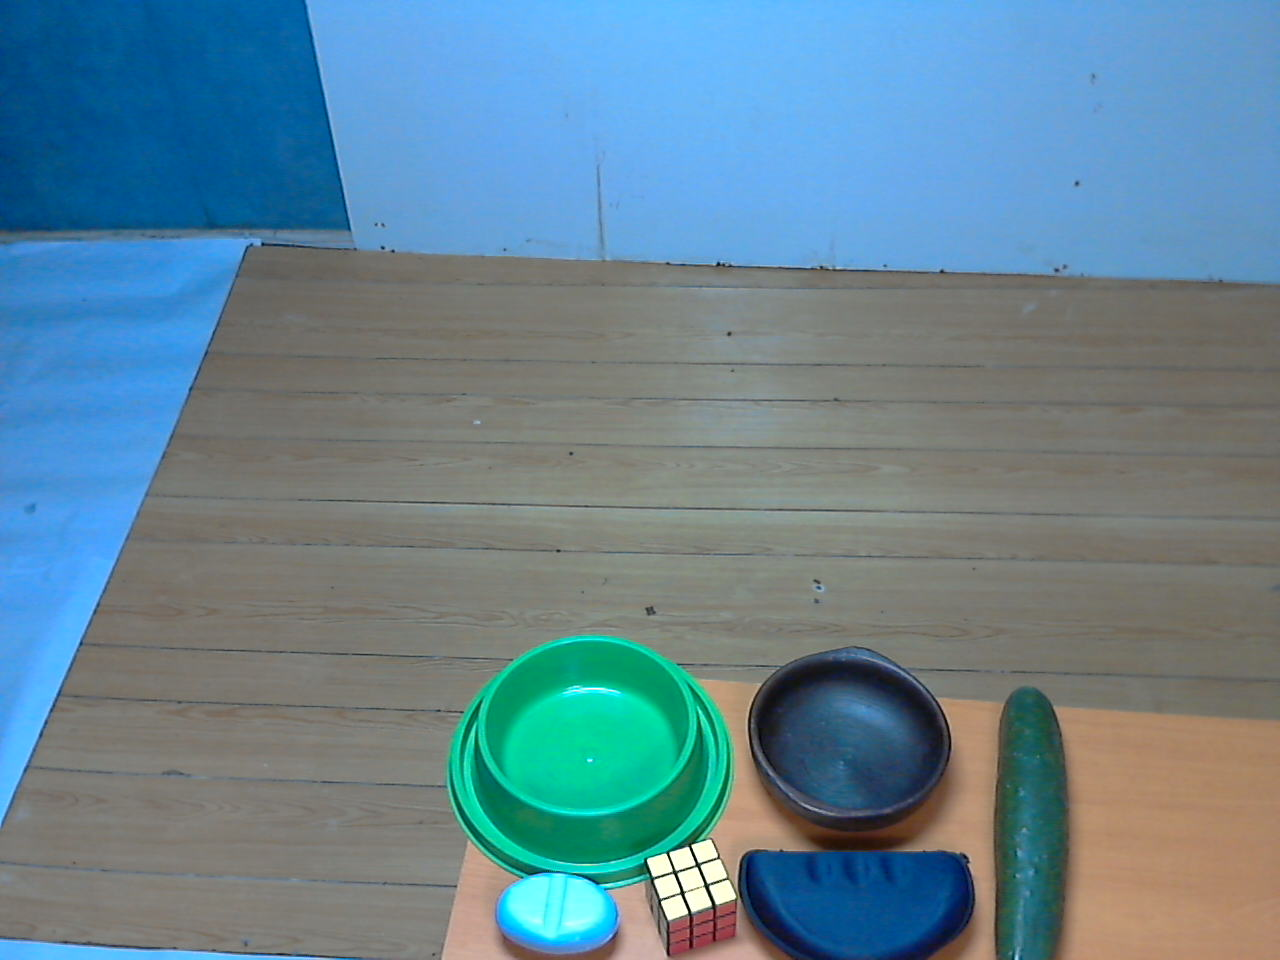cubix: (639, 834, 752, 960)
estuche: (726, 836, 981, 960)
greda: (744, 638, 961, 842)
jabon: (486, 863, 628, 960)
pepino: (977, 679, 1083, 960)
platoperro: (444, 623, 738, 892)
